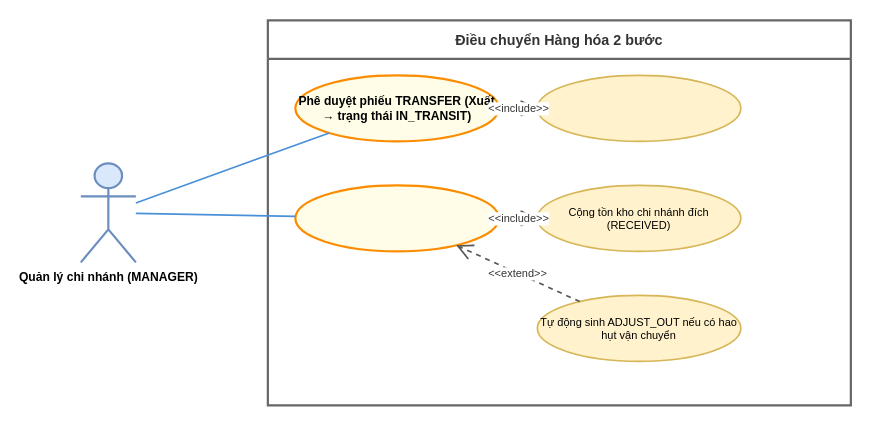
The diagram is 871 pixels wide and 425 high, and some of its shapes have lost their labels. Each missing label, with the centre of its shape:
"Trừ tồn kho chi nhánh nguồn" belongs at [638,108].
"Xác nhận nhận hàng tại chi nhánh đích" belongs at [396,218].
